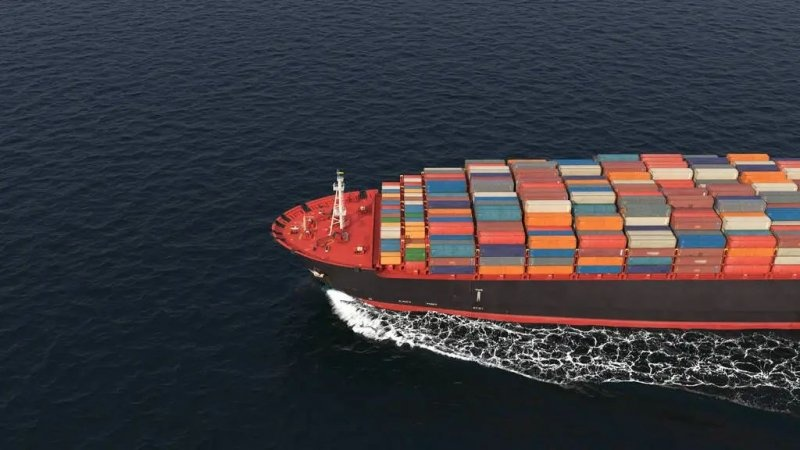Cargoship: (266, 149, 800, 326)
